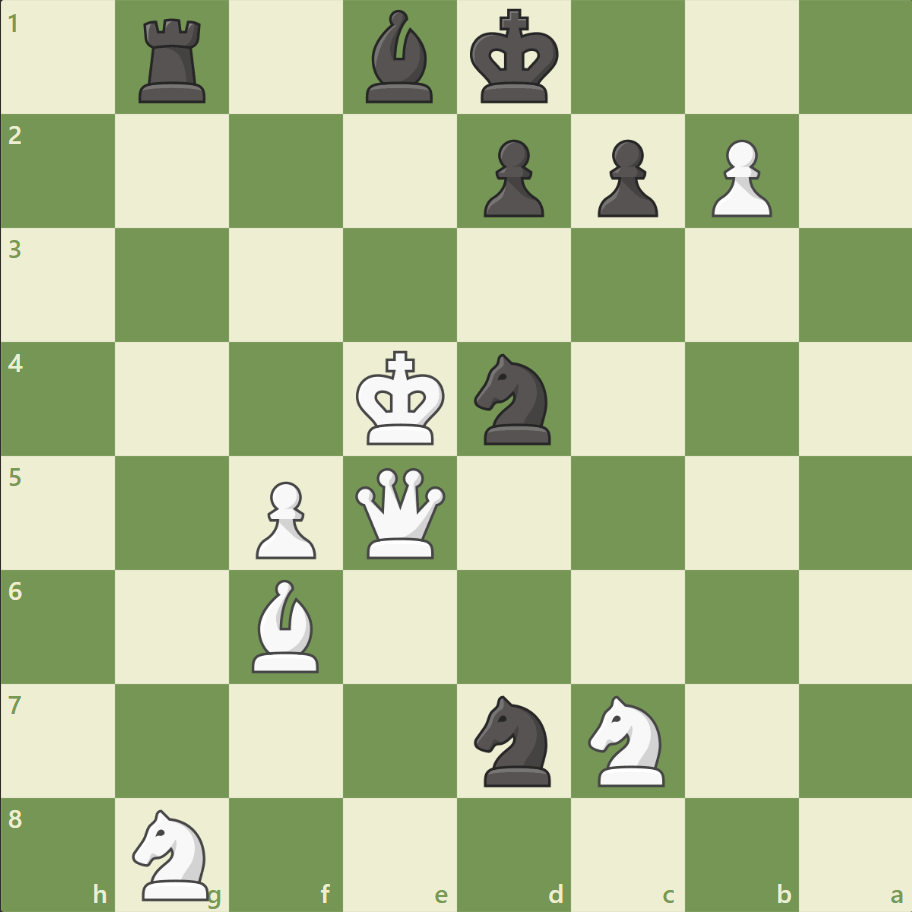B: (244, 574, 328, 676)
K: (351, 344, 451, 452)
N: (124, 802, 222, 904), (579, 688, 676, 791)
P: (247, 473, 322, 564), (701, 132, 776, 223)
Q: (351, 463, 450, 562)
b: (358, 6, 442, 109)
k: (465, 4, 565, 112)
n: (465, 688, 562, 791), (465, 348, 562, 450)
p: (474, 132, 549, 223), (588, 132, 662, 223)
r: (133, 12, 215, 109)
